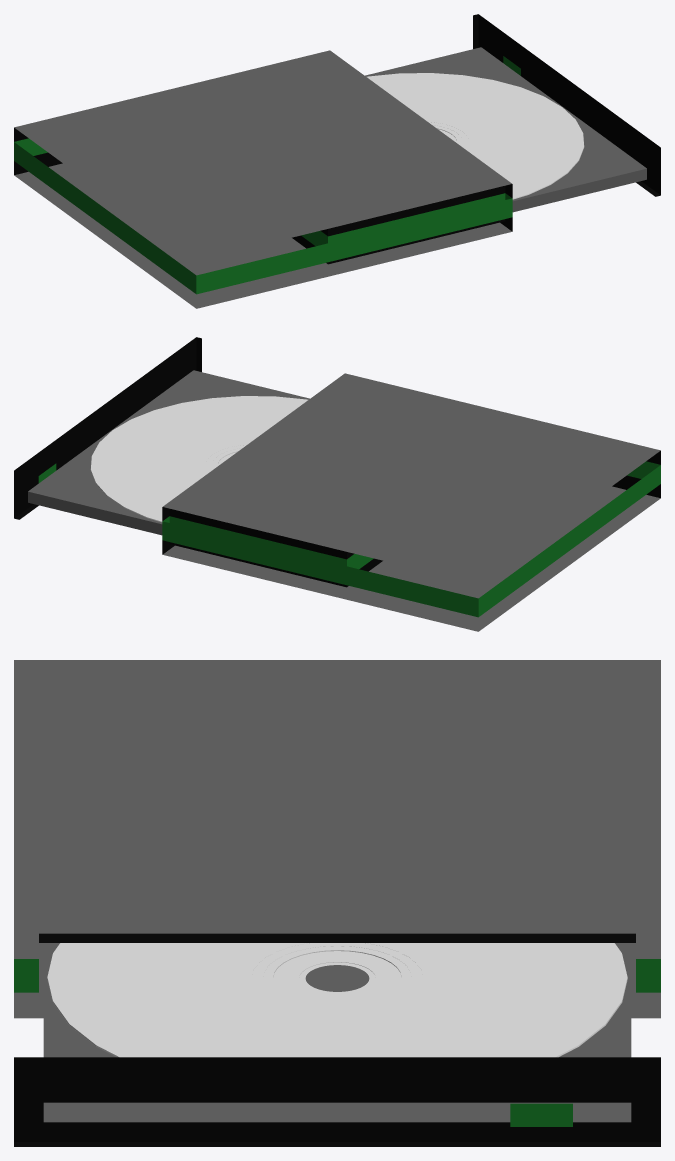
The model's file is Laufwerk.fbx.
3 renders of one model, top to bottom at view 1: azimuth 30°, elevation 25°; view 2: azimuth 150°, elevation 25°; view 3: azimuth 270°, elevation 25°, orthographic. The views are drawn at different scales.
Visible parts, largest first — view 1: Laufwerk; view 2: Laufwerk; view 3: Laufwerk.
Part boxes in pixels (<box>): Laufwerk: <box>14,14,660,308</box>; Laufwerk: <box>14,337,660,631</box>; Laufwerk: <box>14,660,660,1146</box>.
Bounding box in the file's own units: 328 × 32.28 × 223.
